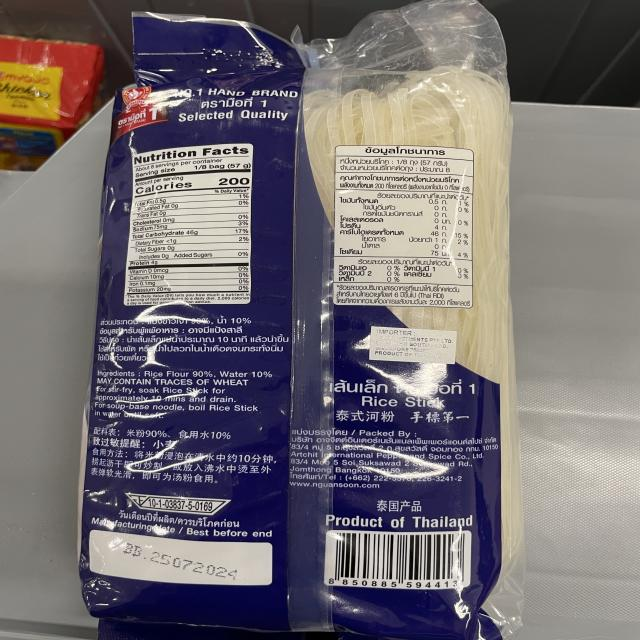object_name: (108, 13, 520, 632)
